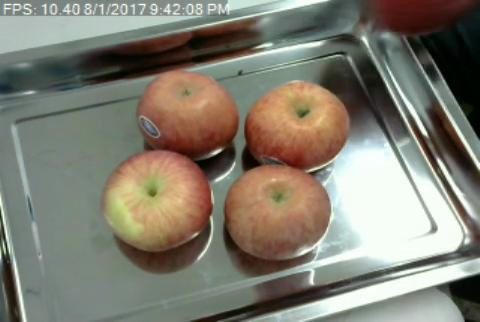apple: (100, 148, 213, 253), (223, 164, 332, 258), (244, 79, 350, 166), (136, 69, 238, 155)
